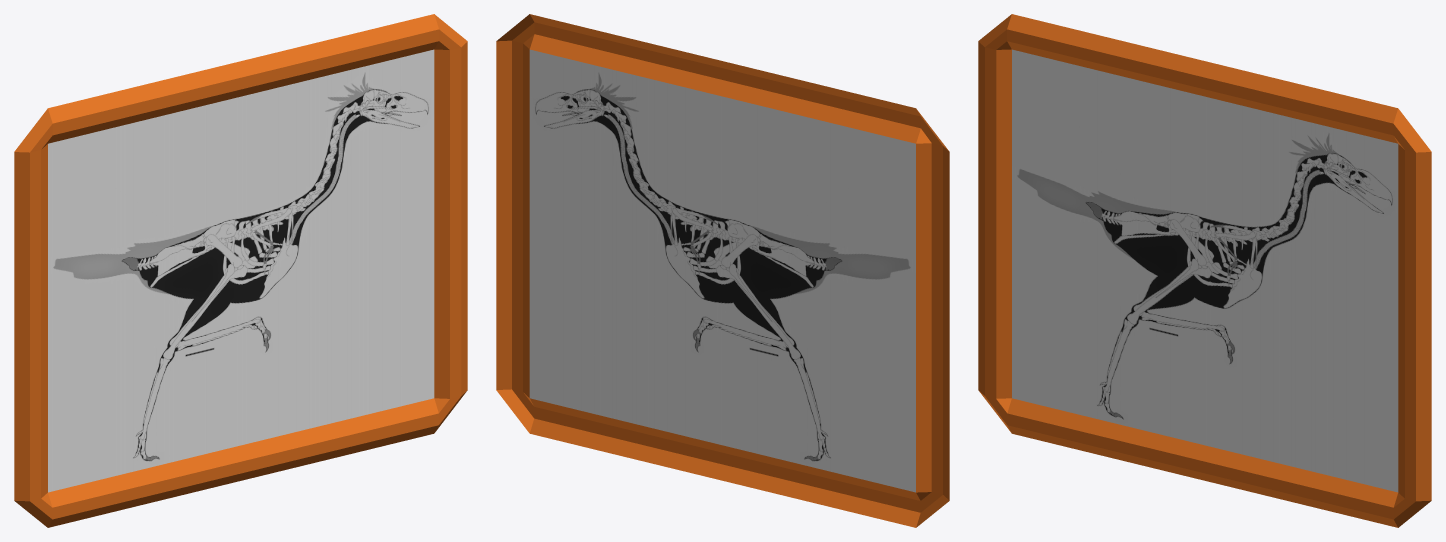
Rendered from Cuadro de dinosaurio.fbx.
3 views of the same model, side by side, from view 1: azimuth 30°, elevation 25°; view 2: azimuth 150°, elevation 25°; view 3: azimuth 330°, elevation 25° (orthographic).
Parts seen in each view (by area): view 1: Cube; view 2: Cube; view 3: Cube.
Part boxes in pixels (<box>): Cube: <box>14,14,467,527</box>; Cube: <box>496,14,949,527</box>; Cube: <box>978,14,1431,527</box>.
Bounding box in the file's own units: 272 × 241 × 5.02.
